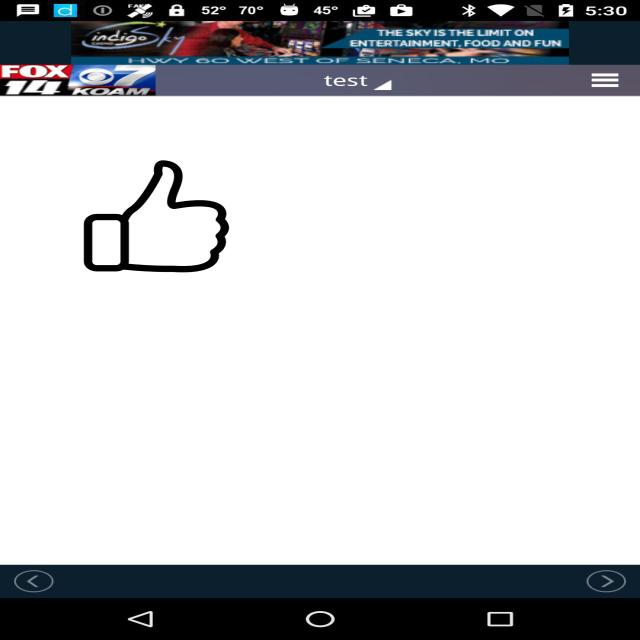privacy zuckering: (82, 160, 231, 272)
